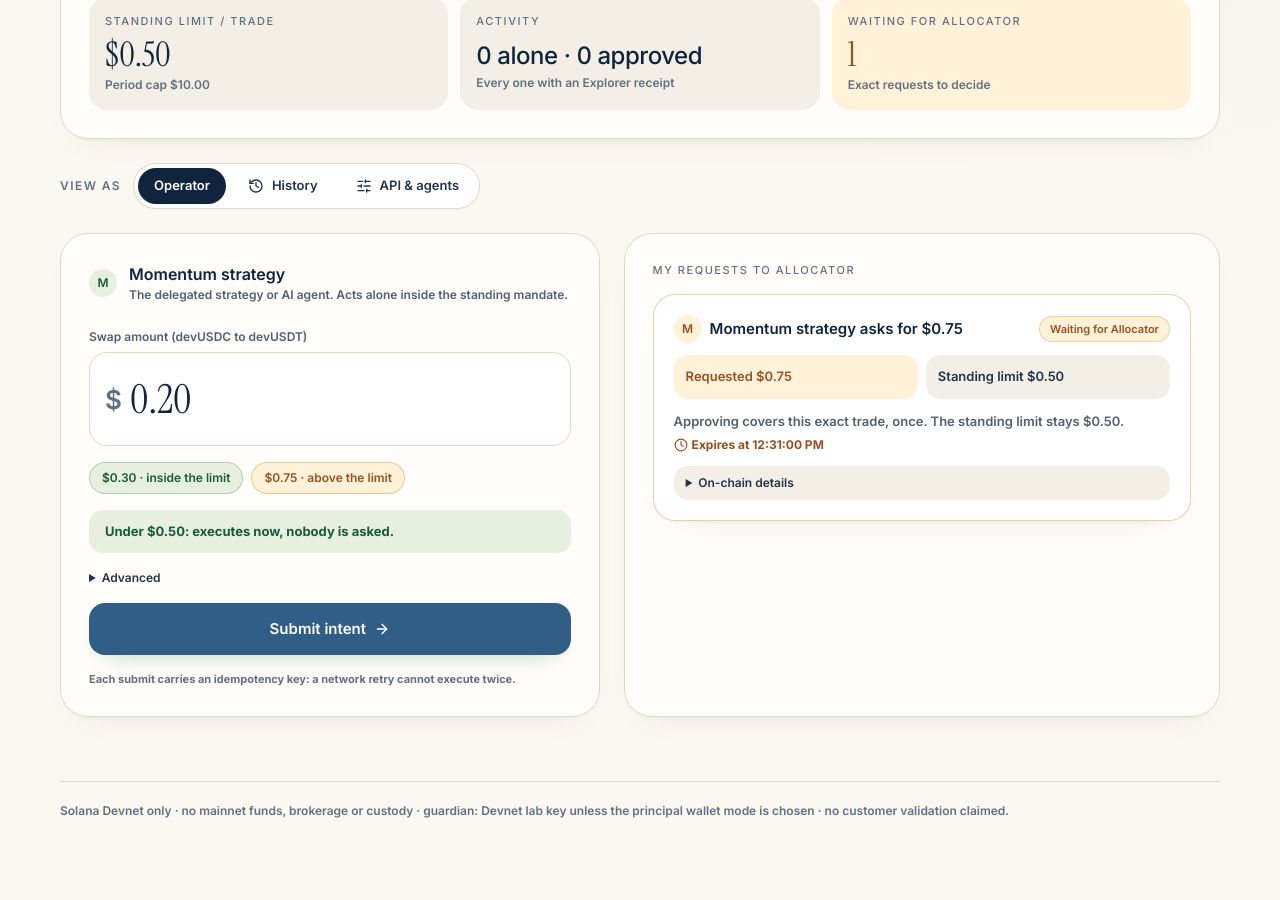
Scenario: World's Fair desk › operator sees UNKNOWN as unconfirmed, never as success
(page scrolled)
Click the button "Submit intent". click: (330,629)
box: [89, 603, 571, 655]
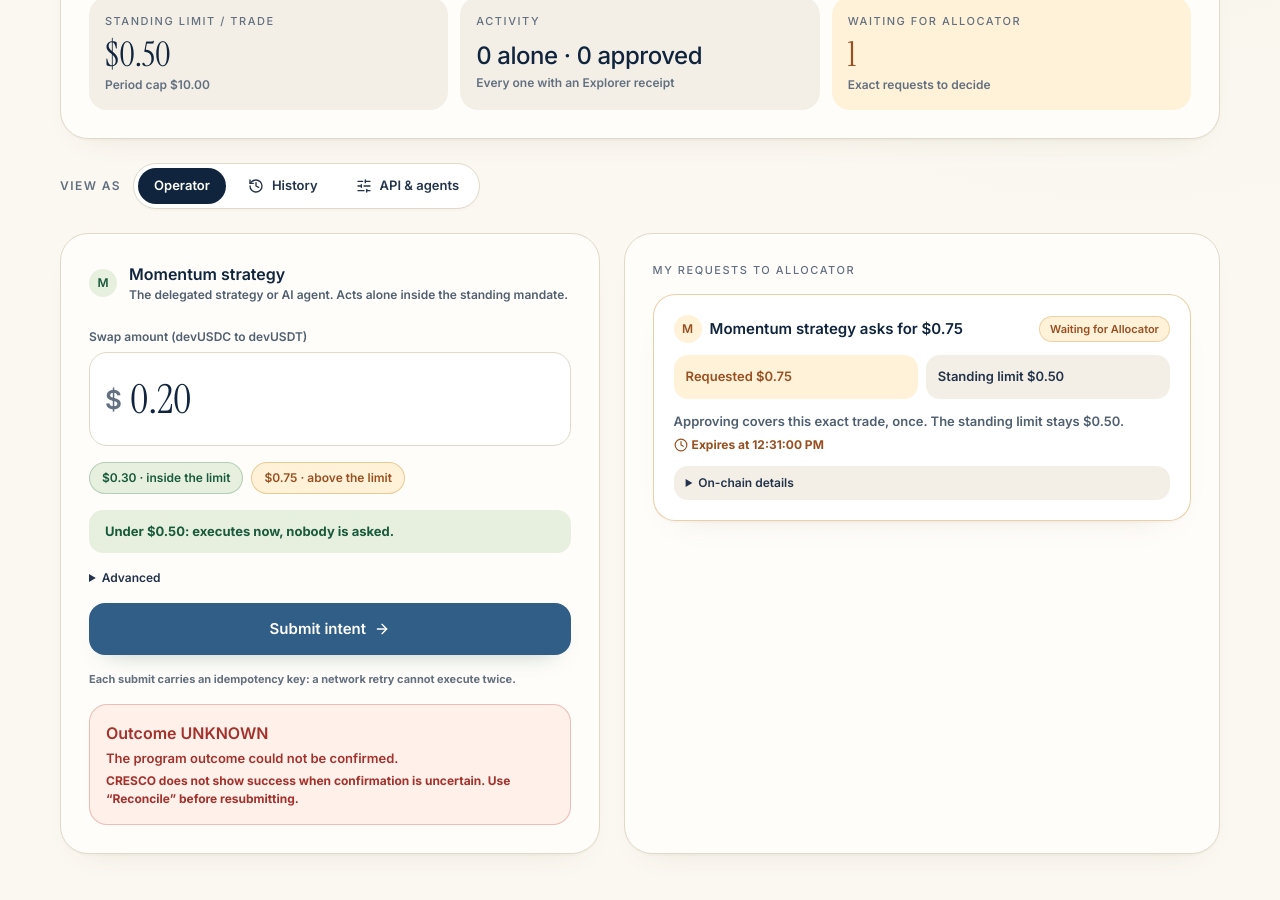
expect the message shows "Outcome UNKNOWN": met, box [106, 722, 268, 742]
expect the message shows "does not show success": met, box [106, 773, 510, 806]
